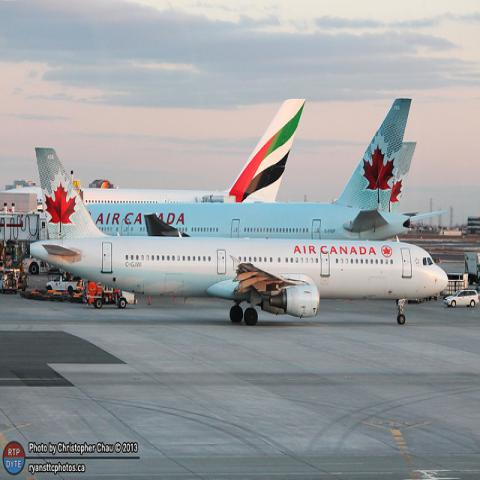car: (444, 288, 479, 308)
truck: (87, 281, 137, 309), (47, 275, 86, 296), (22, 258, 57, 274), (465, 253, 479, 286)
